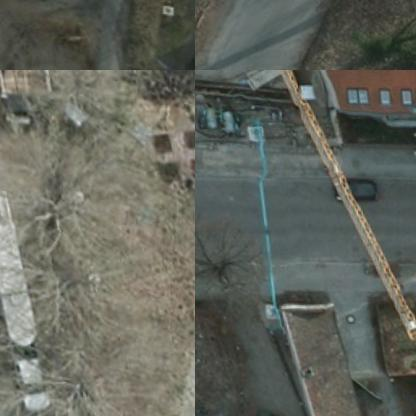camping car: (0, 184, 42, 350)
car: (329, 170, 383, 206)
pickup: (0, 314, 53, 409)
